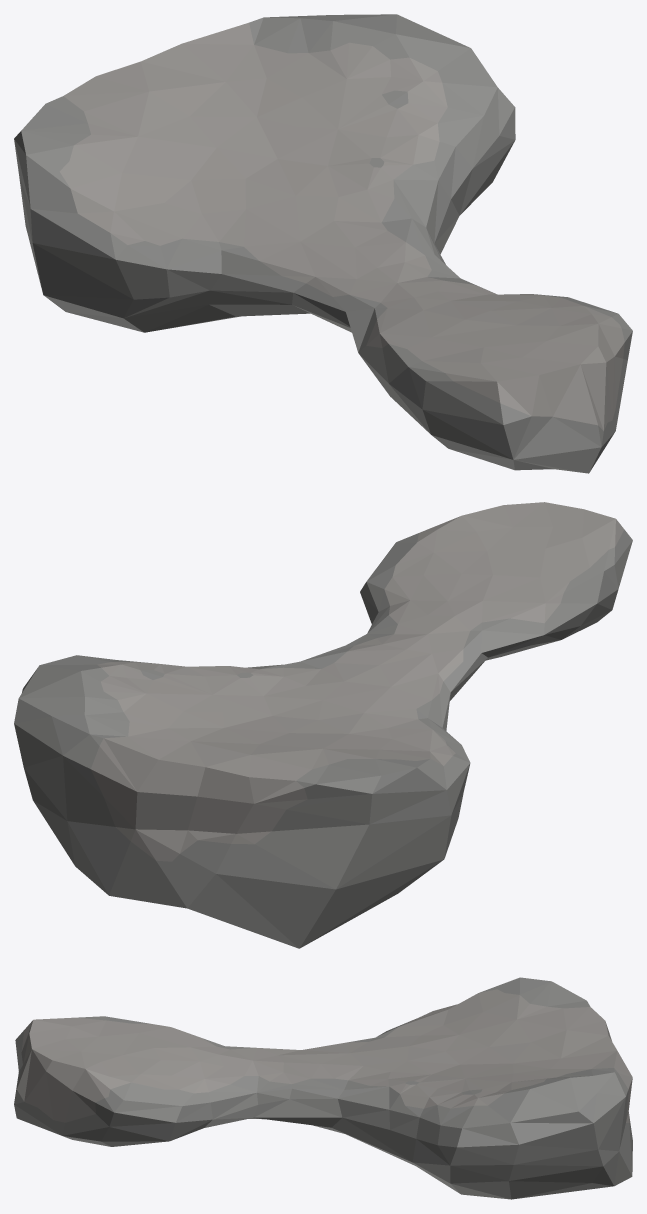
File: Cavern_Floor_Narrow_Bridge_Sml-02.fbx
3 views of the same model, one above another, from view 1: azimuth 30°, elevation 25°; view 2: azimuth 150°, elevation 25°; view 3: azimuth 270°, elevation 25° (orthographic). The views are drawn at different scales.
Parts seen in each view (by area): view 1: Cavern_Floor_Narrow_Bridge_Sml-02; view 2: Cavern_Floor_Narrow_Bridge_Sml-02; view 3: Cavern_Floor_Narrow_Bridge_Sml-02.
Boxes of the visible parts, box(x1,y1,x2,y2) form: Cavern_Floor_Narrow_Bridge_Sml-02: box(14, 14, 632, 473); Cavern_Floor_Narrow_Bridge_Sml-02: box(14, 502, 632, 948); Cavern_Floor_Narrow_Bridge_Sml-02: box(14, 977, 632, 1199).
Size of the model in its own units: 852 by 371 by 1402.
1 material, 1 textured.
